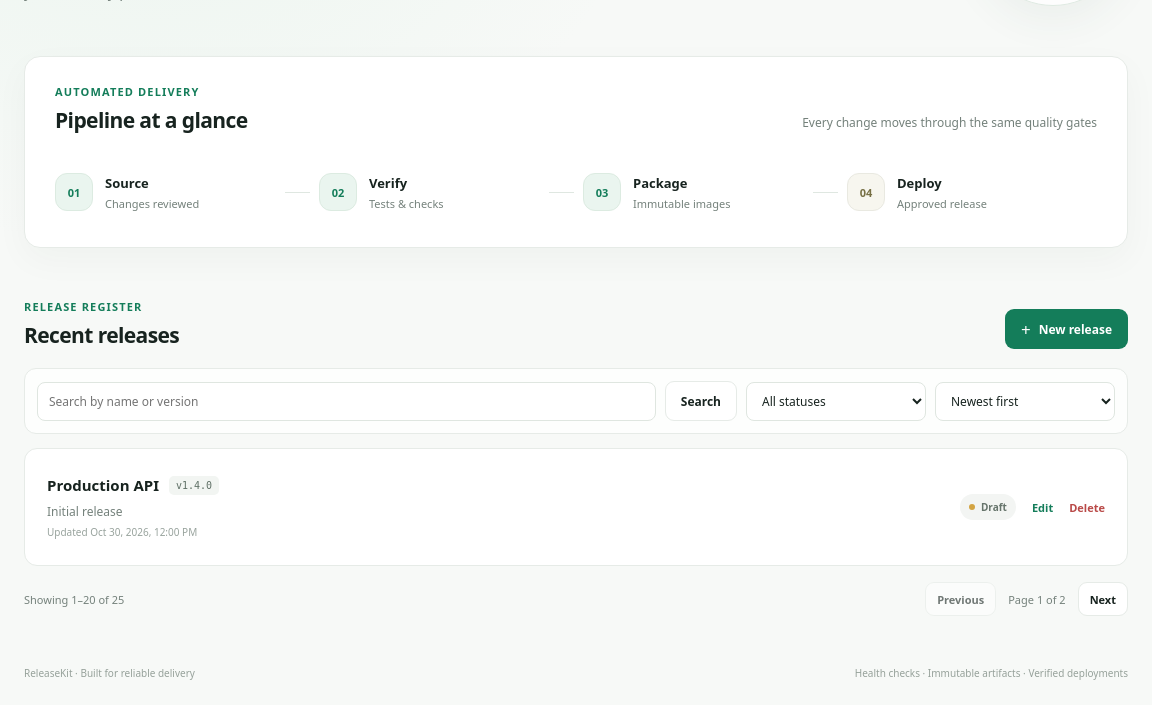
it: release dashboard › navigates through server-paginated release results
(page scrolled)
Expected: the text "Showing 1–20 of 25" is shown, x1=24 y1=592 x2=124 y2=606
Click the button "Next" at {"x": 1103, "y": 599}, box x1=1078 y1=582 x2=1128 y2=616
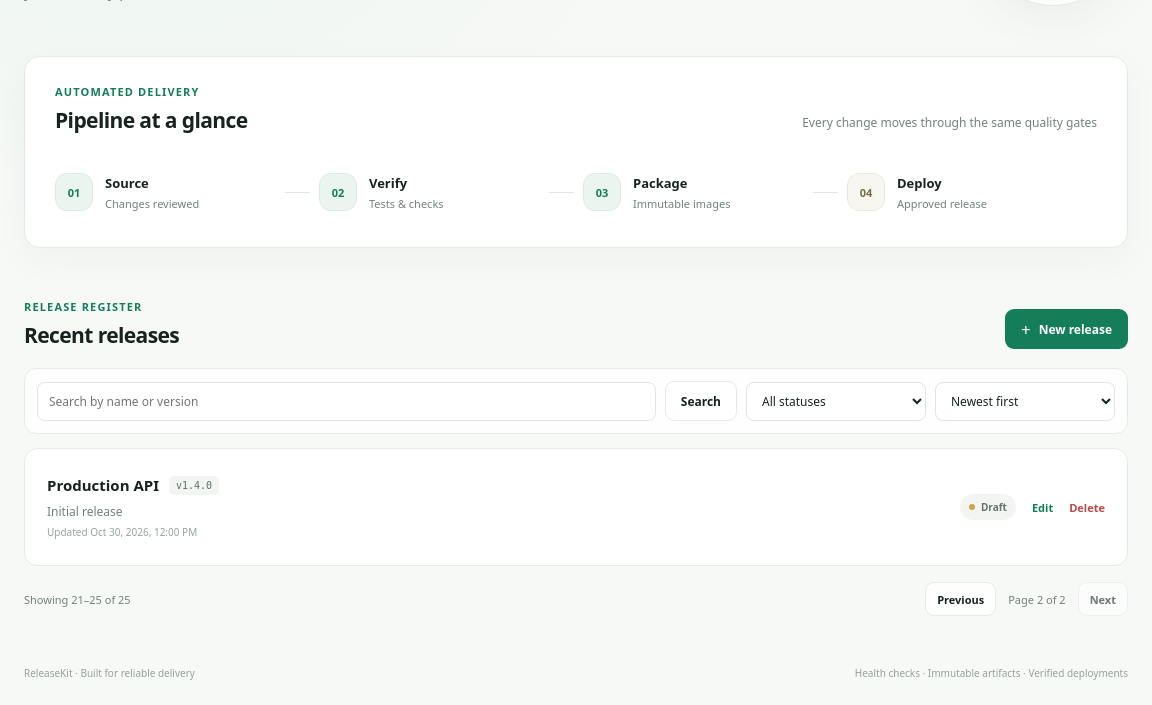
Result: the text "Showing 21–25 of 25" is shown at x1=24 y1=592 x2=131 y2=606
